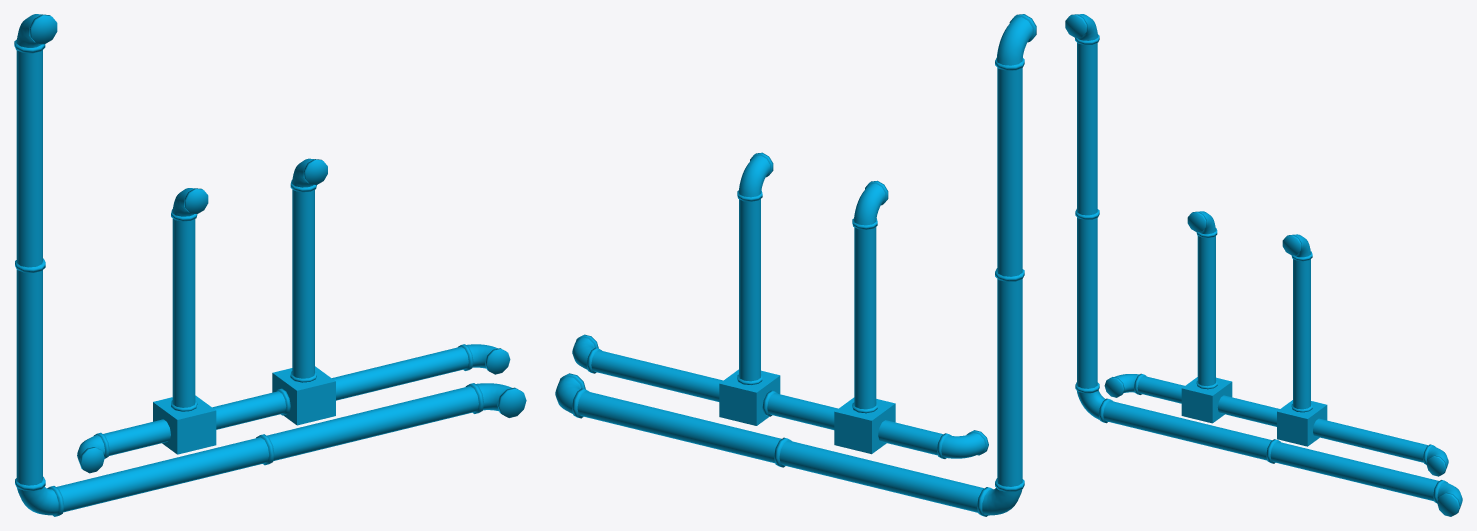
Rendered from Factory_Pipe_09_Lod0.fbx.
3 views of the same model, side by side, from view 1: azimuth 30°, elevation 25°; view 2: azimuth 150°, elevation 25°; view 3: azimuth 330°, elevation 25° (orthographic). The views are drawn at different scales.
Parts seen in each view (by area): view 1: Factory_Pipe_09_Lod0; view 2: Factory_Pipe_09_Lod0; view 3: Factory_Pipe_09_Lod0.
Part boxes in pixels (x1,y1,x2,y2): Factory_Pipe_09_Lod0: (14, 14, 526, 516); Factory_Pipe_09_Lod0: (555, 14, 1036, 516); Factory_Pipe_09_Lod0: (1065, 14, 1462, 516).
Bounding box in the file's own units: 333 × 331 × 29.87.
